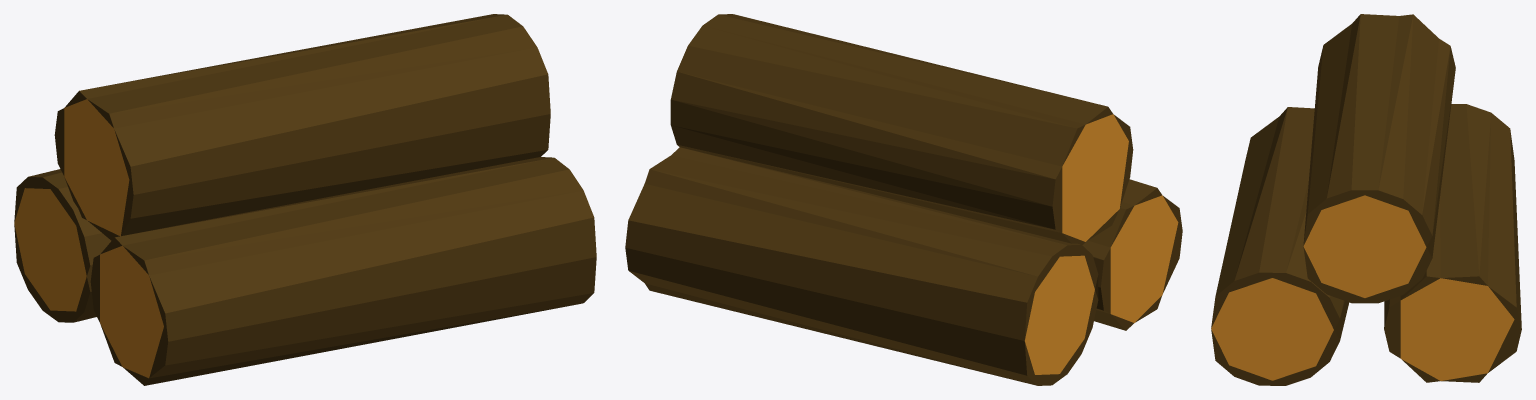
The model's file is logs.fbx.
3 renders of one model, left to right at view 1: azimuth 30°, elevation 25°; view 2: azimuth 150°, elevation 25°; view 3: azimuth 270°, elevation 25°, orthographic. The views are drawn at different scales.
Visible parts, largest first — view 1: log; view 2: log; view 3: log.
Boxes of the visible parts, x1,y1,x2,y2 form: log: (14,14,596,385); log: (625,14,1182,385); log: (1211,14,1521,385).
Bounding box in the file's own units: 242 × 134 × 183.
